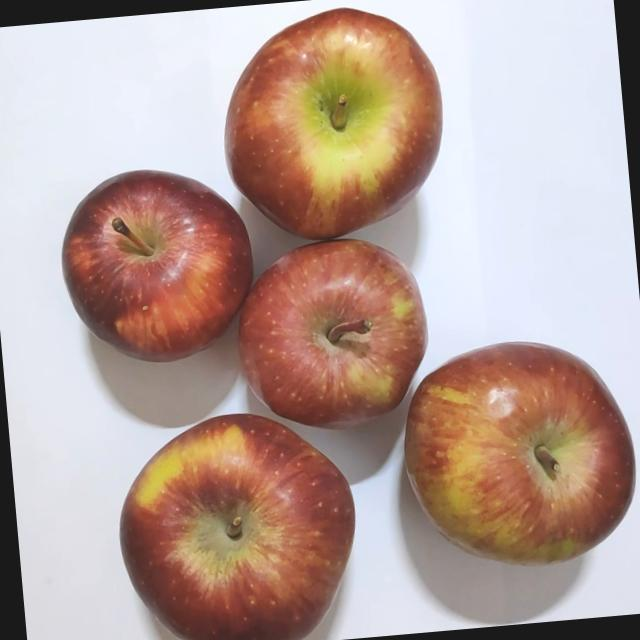apple: (385, 320, 640, 587), (103, 396, 367, 640), (208, 1, 451, 258), (49, 157, 265, 381), (224, 226, 439, 436)
